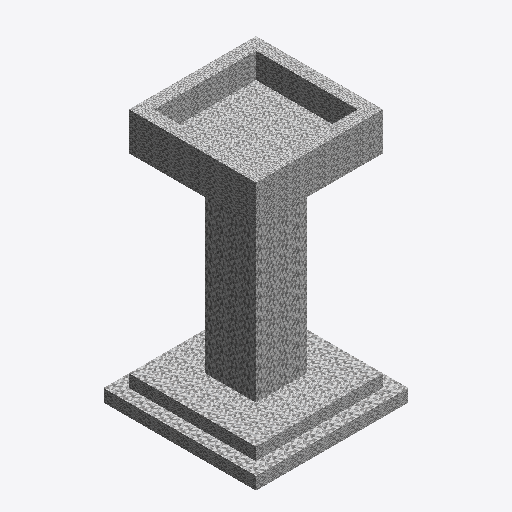
A Minecraft block model of 9 cuboids, rendered isometrically (azimuth 45°, elevation 35.3°) with the resource pack's own textures.
Parts seen in each view (by area): element 7, element 8, element 9, element 1, element 5, element 3, element 2, element 4.
Boxes of the visible parts, x1,y1,x2,y2 form: element 7: [205, 198, 306, 401]; element 8: [129, 330, 382, 460]; element 9: [104, 374, 407, 489]; element 1: [129, 102, 268, 225]; element 5: [181, 80, 330, 167]; element 3: [257, 109, 369, 218]; element 2: [243, 36, 382, 160]; element 4: [143, 44, 255, 123].
Size of the model in its own units: 12 by 20 by 12.